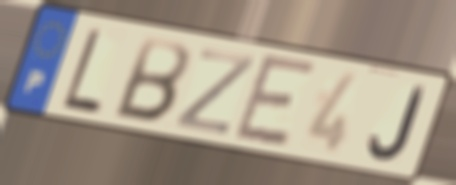4: (301, 71, 361, 157)
B: (109, 34, 193, 126)
E: (230, 50, 320, 150)
J: (367, 83, 429, 164)
L: (59, 24, 105, 117)
Z: (171, 45, 259, 138)
